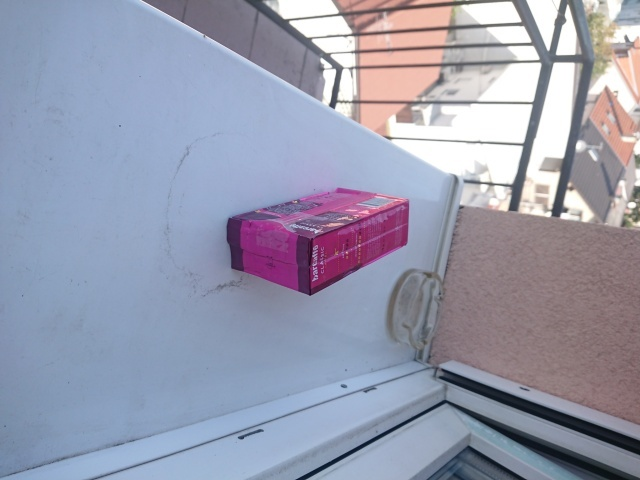Barcaffe Classic Original 225g: (224, 184, 412, 298)
